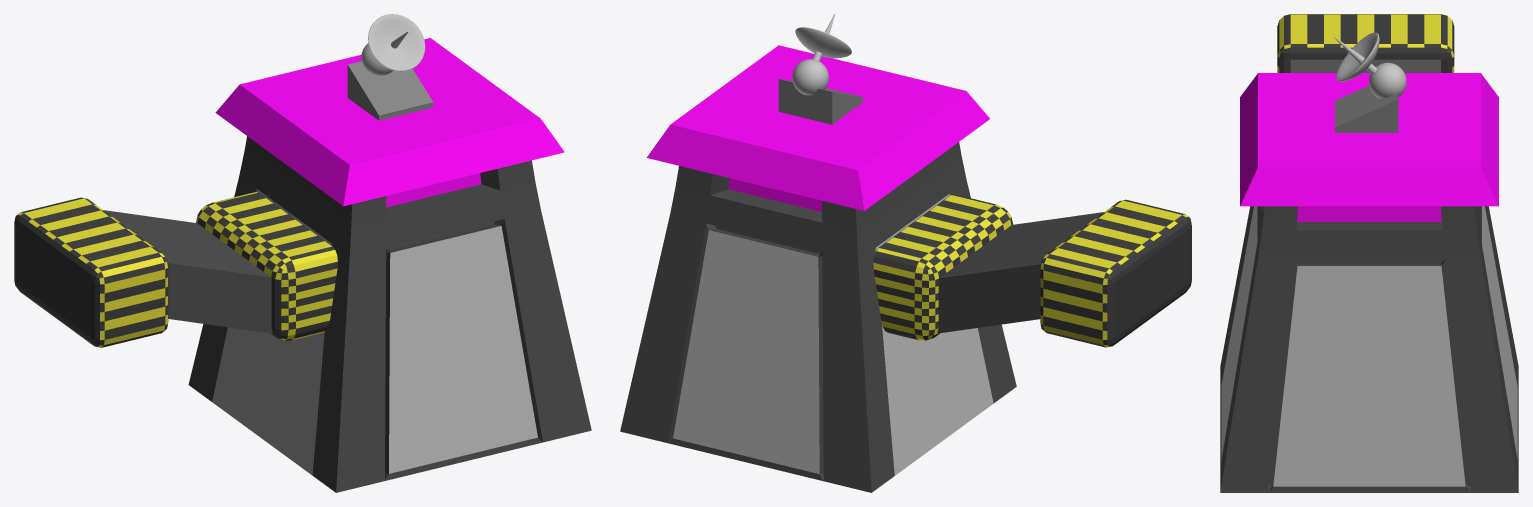
Rendered from StarPortAddOn.fbx.
3 renders of one model, left to right at view 1: azimuth 30°, elevation 25°; view 2: azimuth 150°, elevation 25°; view 3: azimuth 270°, elevation 25°, orthographic. The views are drawn at different scales.
Parts seen in each view (by area): view 1: Cylinder.063; view 2: Cylinder.063; view 3: Cylinder.063.
Boxes of the visible parts, x1=… form: Cylinder.063: x1=14, y1=14, x2=591, y2=492; Cylinder.063: x1=620, y1=14, x2=1191, y2=492; Cylinder.063: x1=1220, y1=14, x2=1518, y2=492.
Size of the model in its own units: 199 by 161 by 109.
